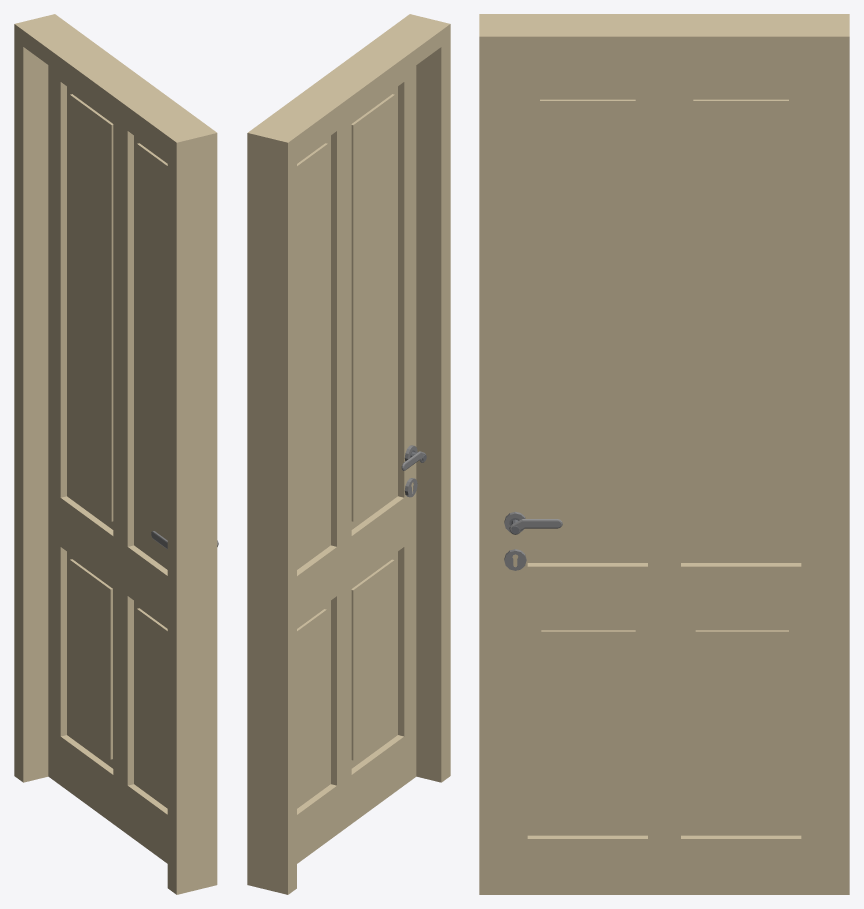
Rendered from Door_Interior.fbx.
3 views of the same model, side by side, from view 1: azimuth 30°, elevation 25°; view 2: azimuth 150°, elevation 25°; view 3: azimuth 270°, elevation 25° (orthographic). The views are drawn at different scales.
Visible parts, largest first — view 1: Door Interior; view 2: Door Interior; view 3: Door Interior.
Part boxes in pixels (bbox=[...]): Door Interior: bbox=[14, 14, 218, 894]; Door Interior: bbox=[247, 14, 450, 894]; Door Interior: bbox=[479, 14, 849, 894].
Bounding box in the file's own units: 19.4 × 249 × 97.53.
